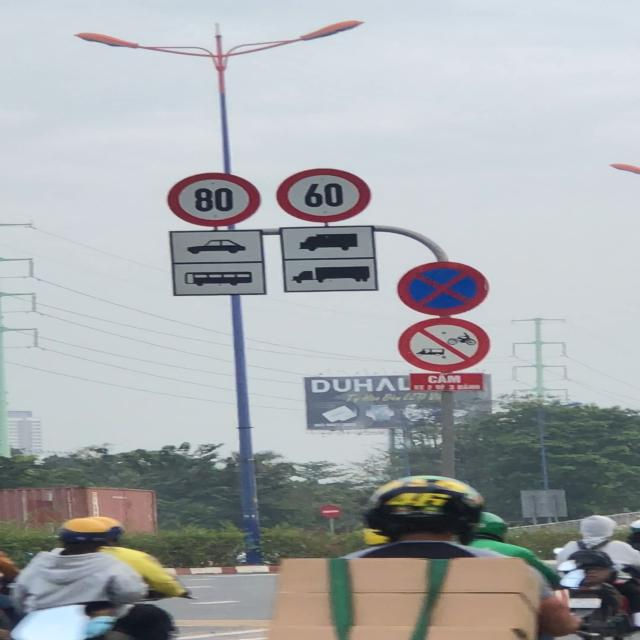Bien bao cam dung xe va do xe: (396, 260, 494, 317)
Bien bao toc do toi da cho phep: (276, 167, 376, 227), (166, 170, 263, 228)
